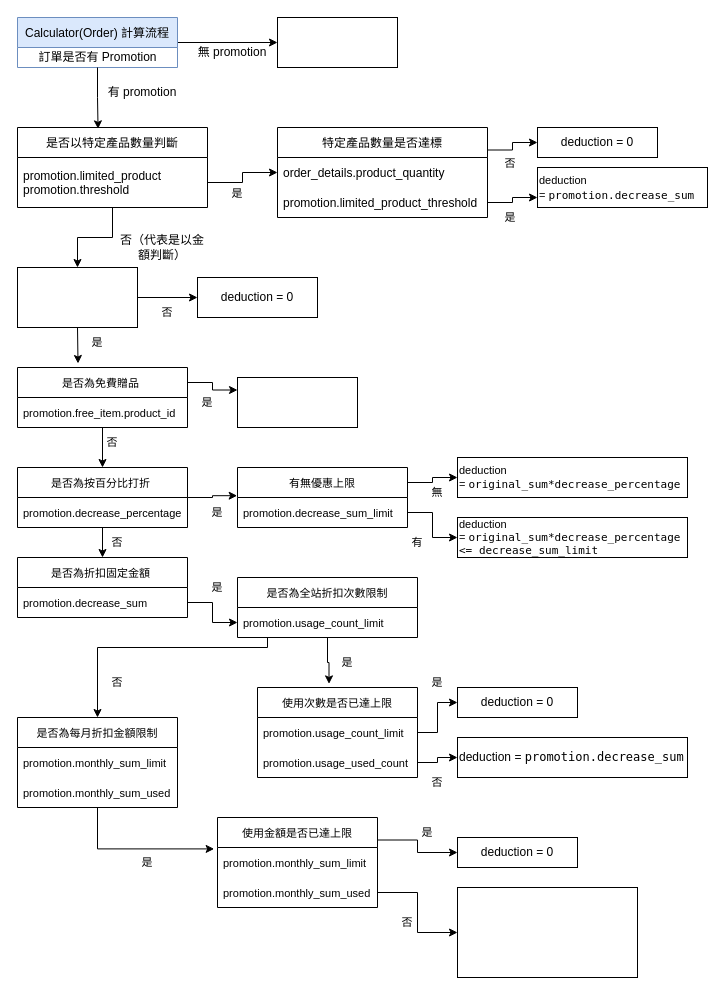
Some shapes in this 725 by 995 pixel diagram are drawn without their labels. Here are the shapes that lost their labels. From the top down, the centre of each, then its label:
the point at 337,42: deduction = 0 計算訂單總額
the point at 77,297: 訂單總額（未計算 promotion 是否達到 threshold）
the point at 297,402: deduction += free_item.product_id
the point at 547,932: deduction = promotion.decrease_sum<= monthly_sum_limit - monthly_sum_used
